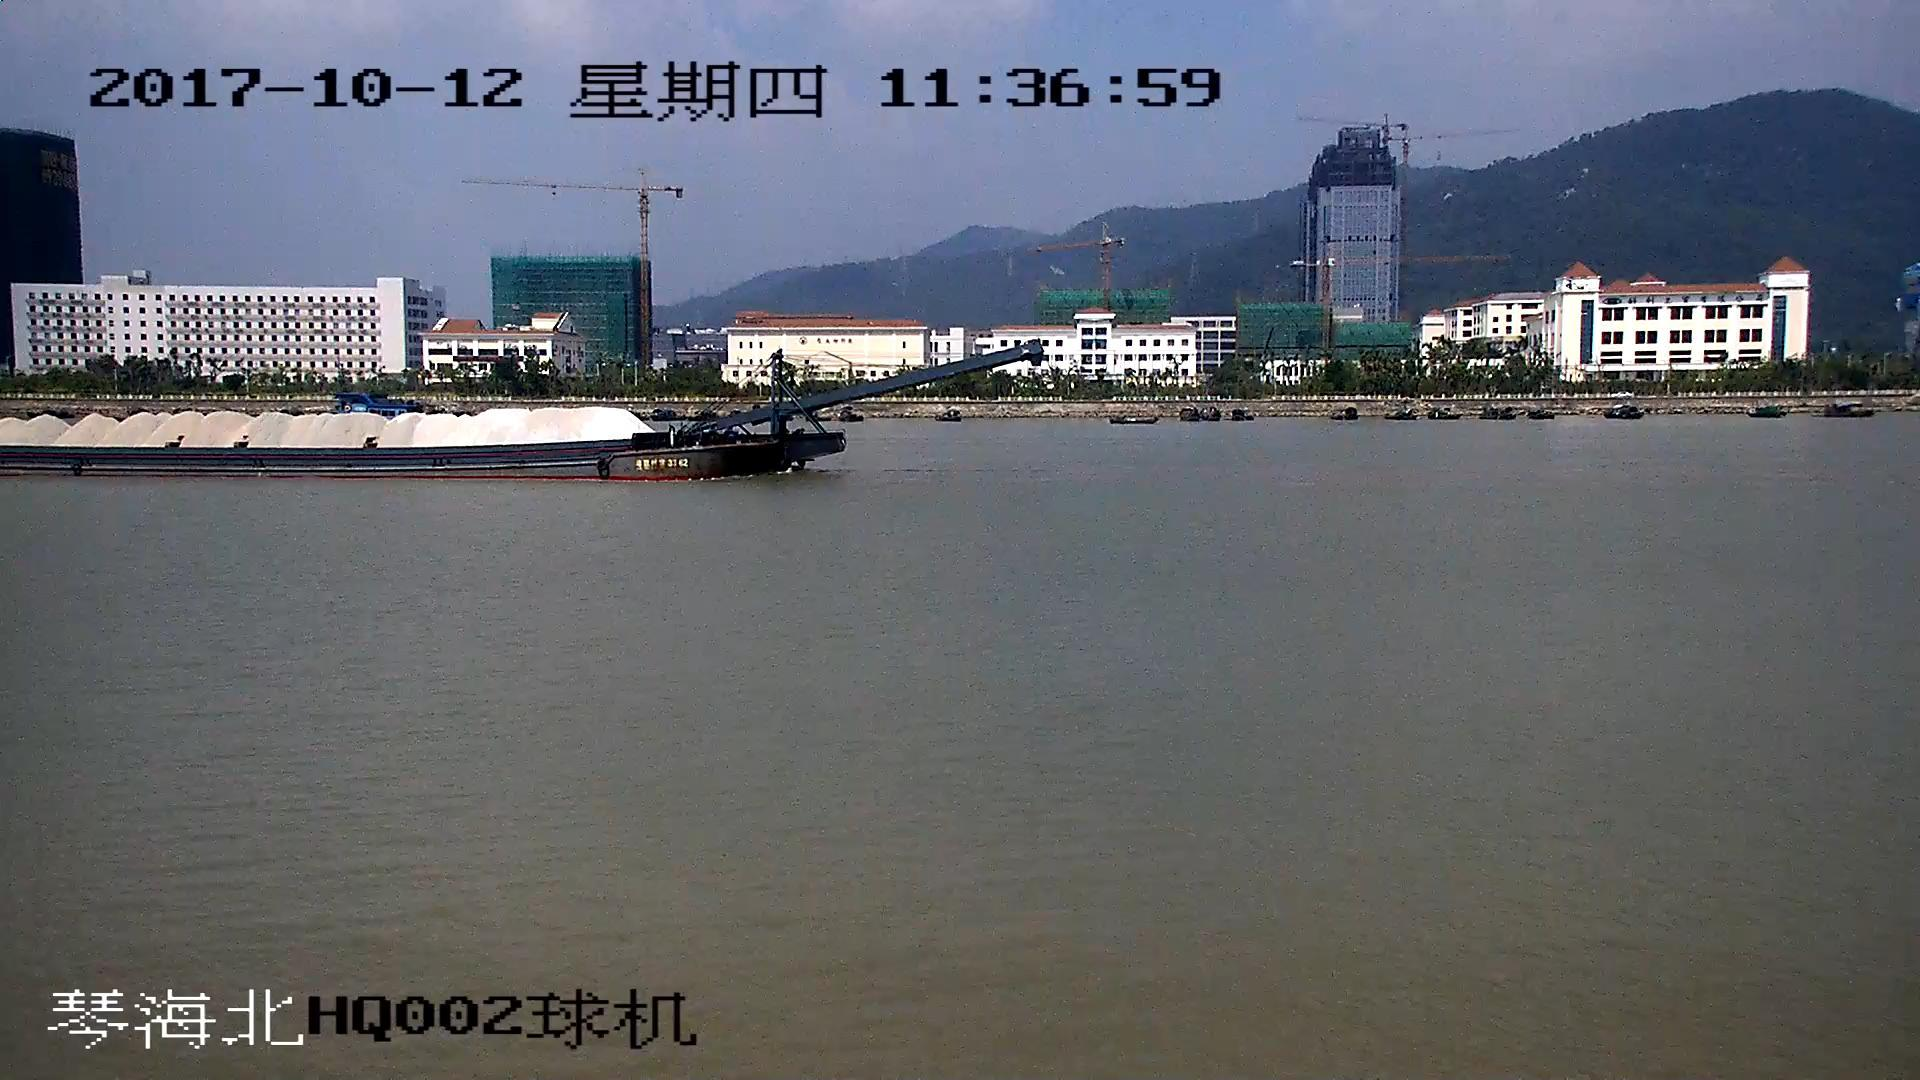Ship: (3, 348, 1039, 476)
